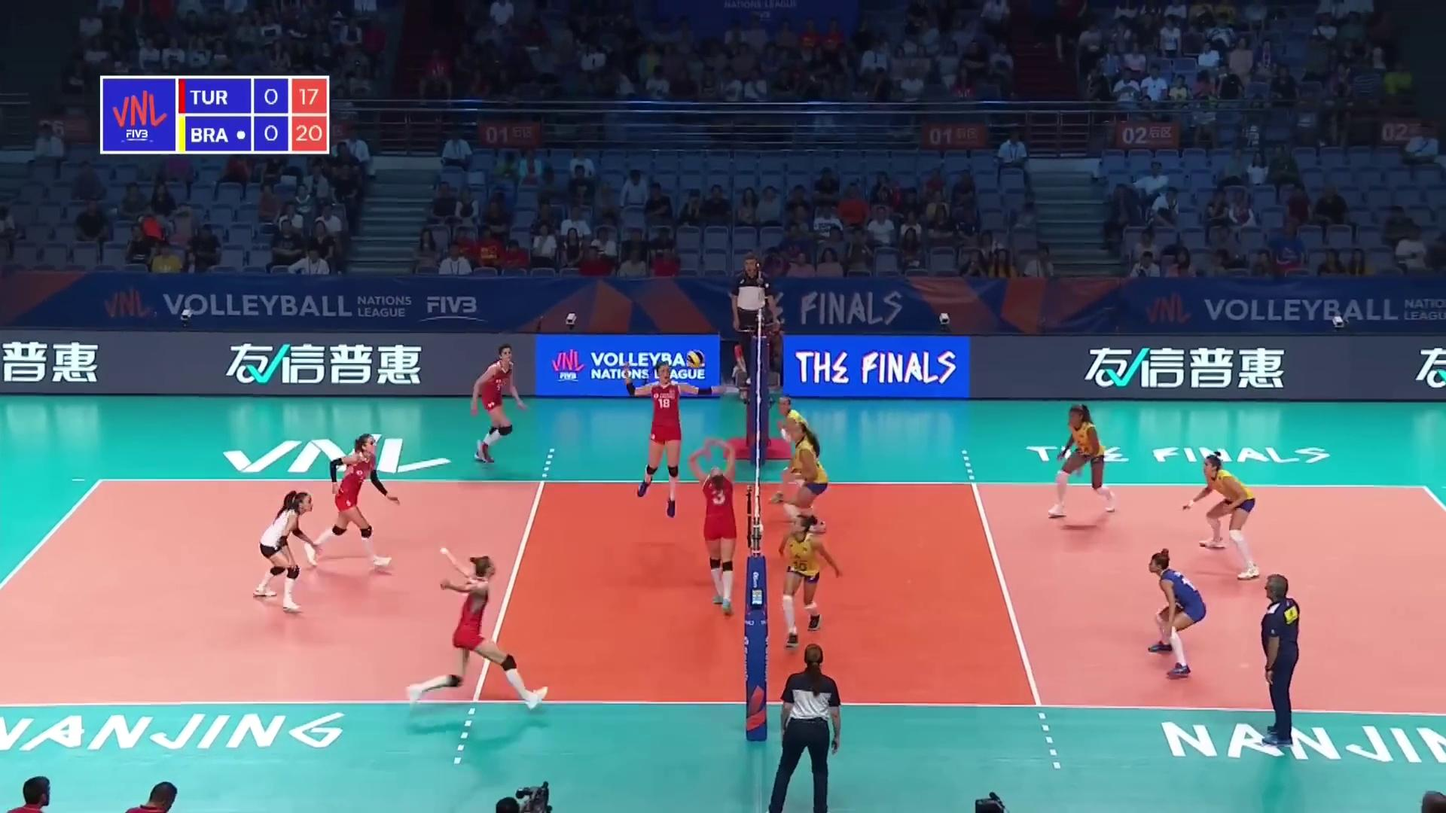player: (411, 548, 552, 703), (624, 361, 725, 513), (305, 434, 398, 575), (1184, 455, 1262, 580), (780, 516, 849, 644), (689, 440, 737, 613), (1145, 551, 1209, 679), (255, 491, 321, 613), (1050, 406, 1120, 521), (471, 340, 525, 470), (783, 423, 828, 543), (774, 394, 819, 501)
refree: (769, 647, 838, 810), (730, 252, 778, 376)
